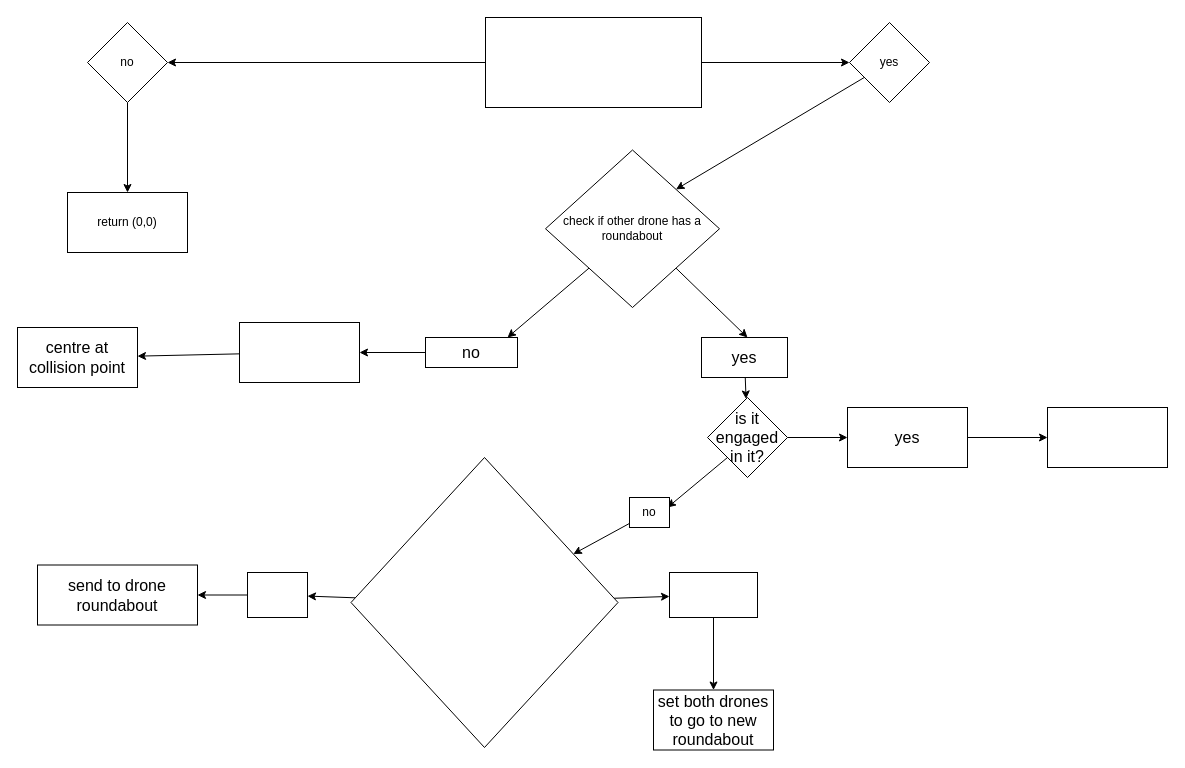
Image size: 1185x768. Some labels were removed from this diagram. The centre of each missing label's shape, as x and y in pixels:
"check for other drone if old roundabout is close or new one" goes at (x=484, y=602).
"check if another drone is within detection distance" goes at (x=593, y=62).
"create new roundabout" goes at (x=299, y=352).
"join its roundabout" goes at (x=1107, y=437).
"new" goes at (x=713, y=595).
"old" goes at (x=277, y=595).
